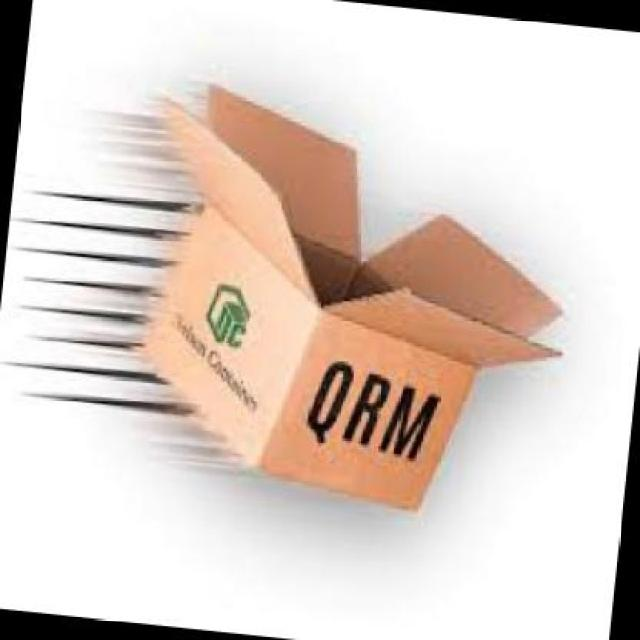box: (122, 80, 583, 523)
